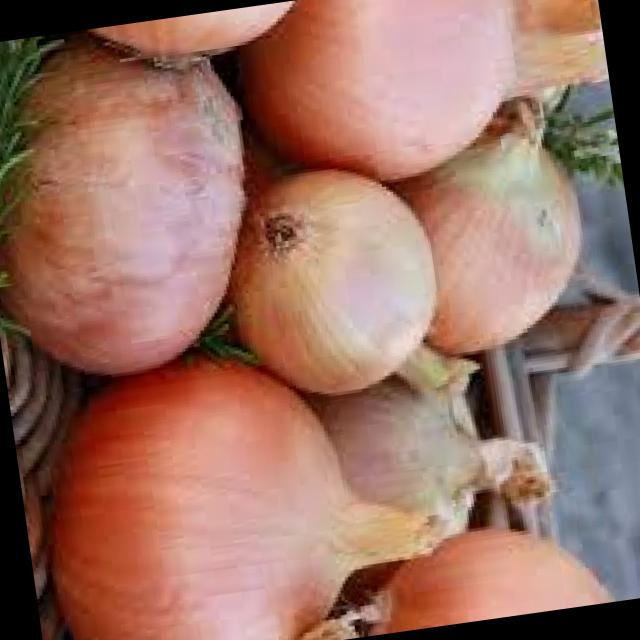Onion: (23, 322, 434, 640), (0, 20, 309, 395), (194, 139, 466, 414), (250, 0, 572, 210), (380, 83, 606, 362), (312, 318, 533, 578)
